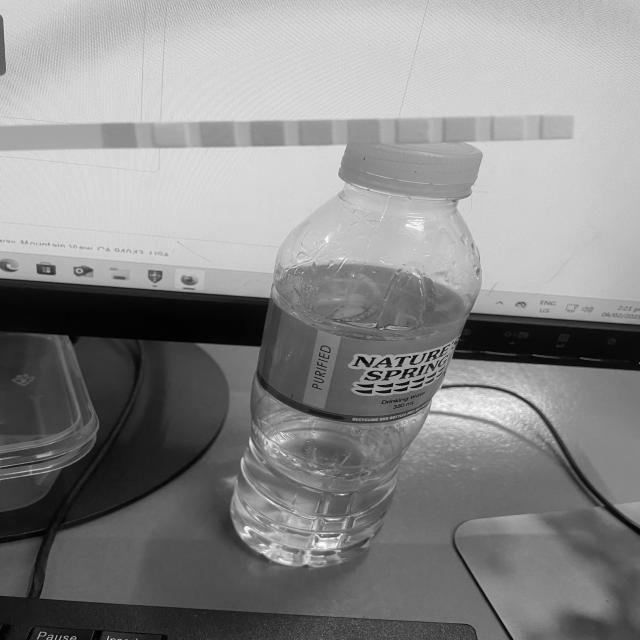Bilirubin: (156, 123, 187, 147)
Blood: (300, 120, 334, 144)
Glucose: (104, 124, 134, 148)
Ketone: (202, 122, 234, 147)
Leukocytes: (540, 115, 572, 138)
Nitrite: (491, 116, 525, 139)
Protein: (397, 119, 429, 142)
SpGravity: (252, 122, 285, 145)
Urobilinogen: (444, 117, 476, 141)
background: (0, 0, 640, 640)
pH: (348, 120, 381, 143)
strip: (1, 115, 574, 151)
